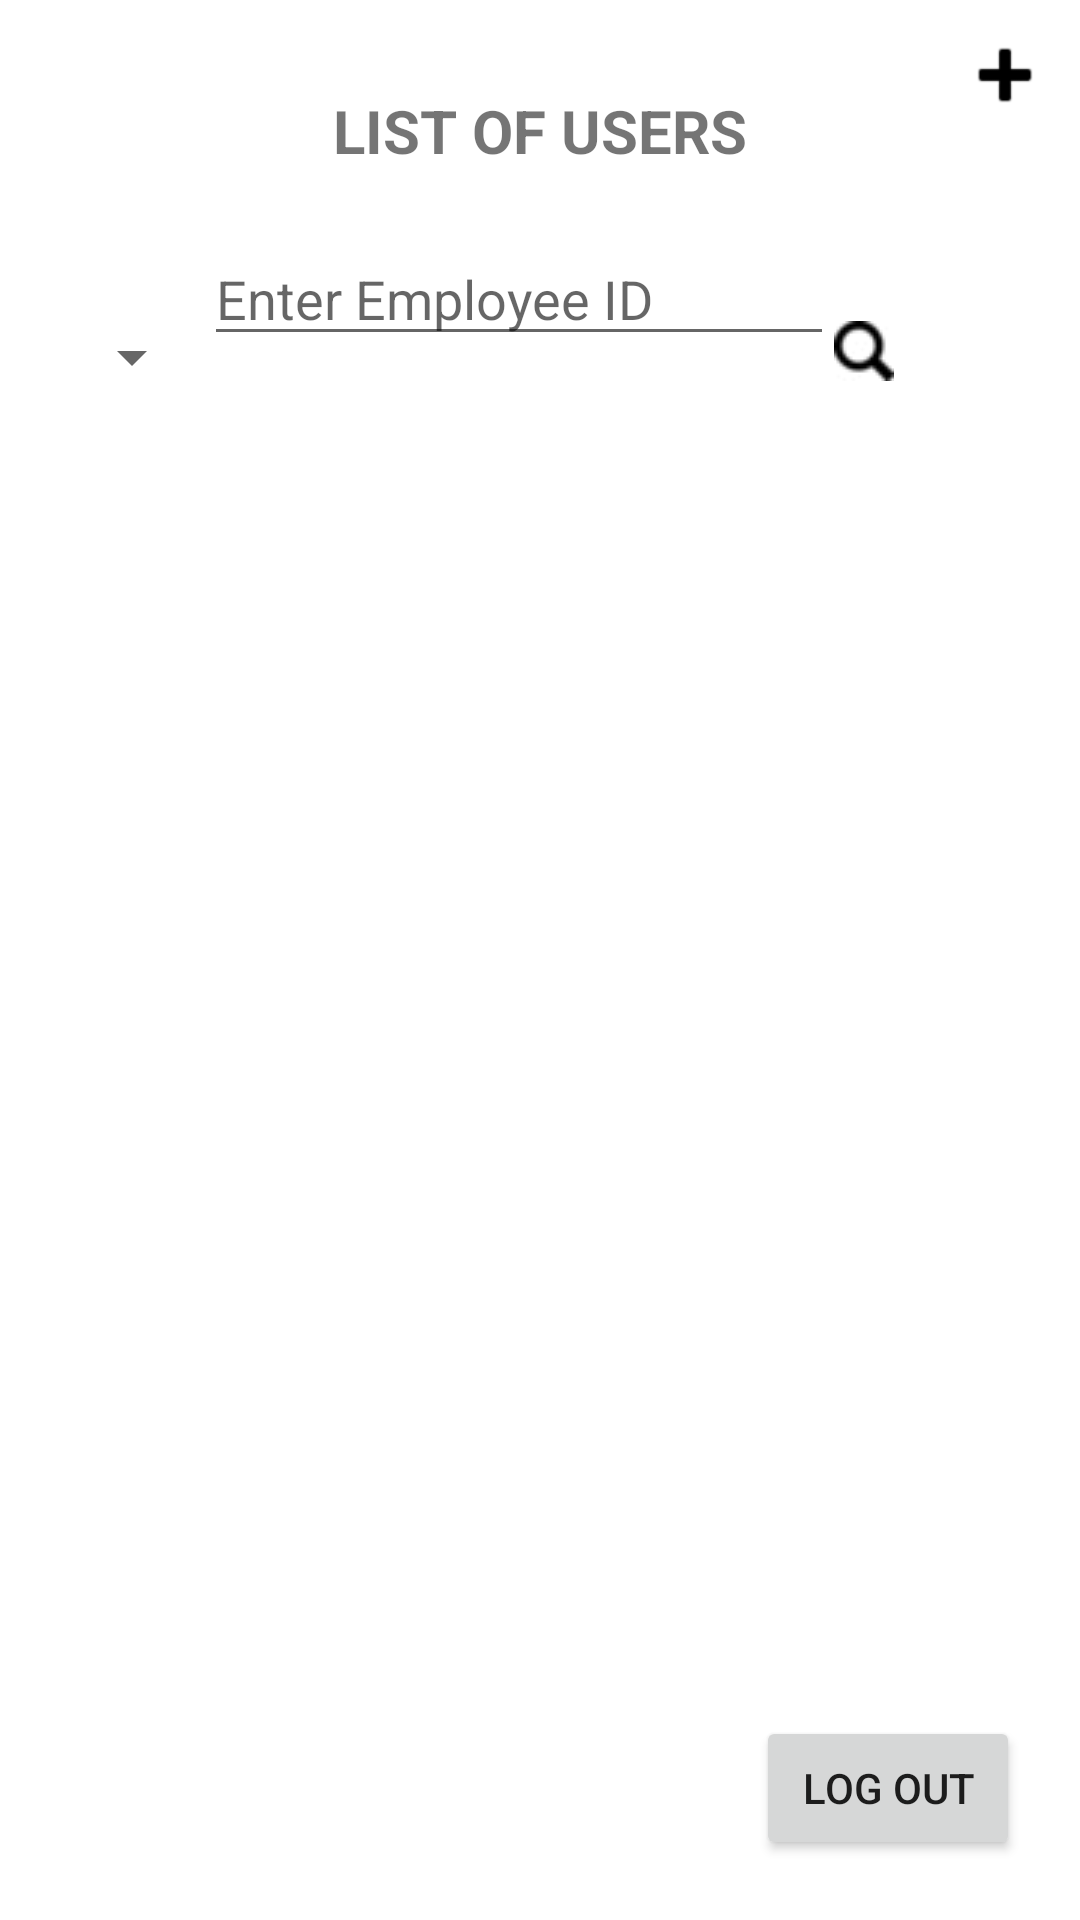

Where icons sit on this 1080w x 1920h app screen, as rect(x1, y1, x2, y2):
add: rect(978, 48, 1032, 102)
magnifyingglass: rect(834, 321, 894, 381)
